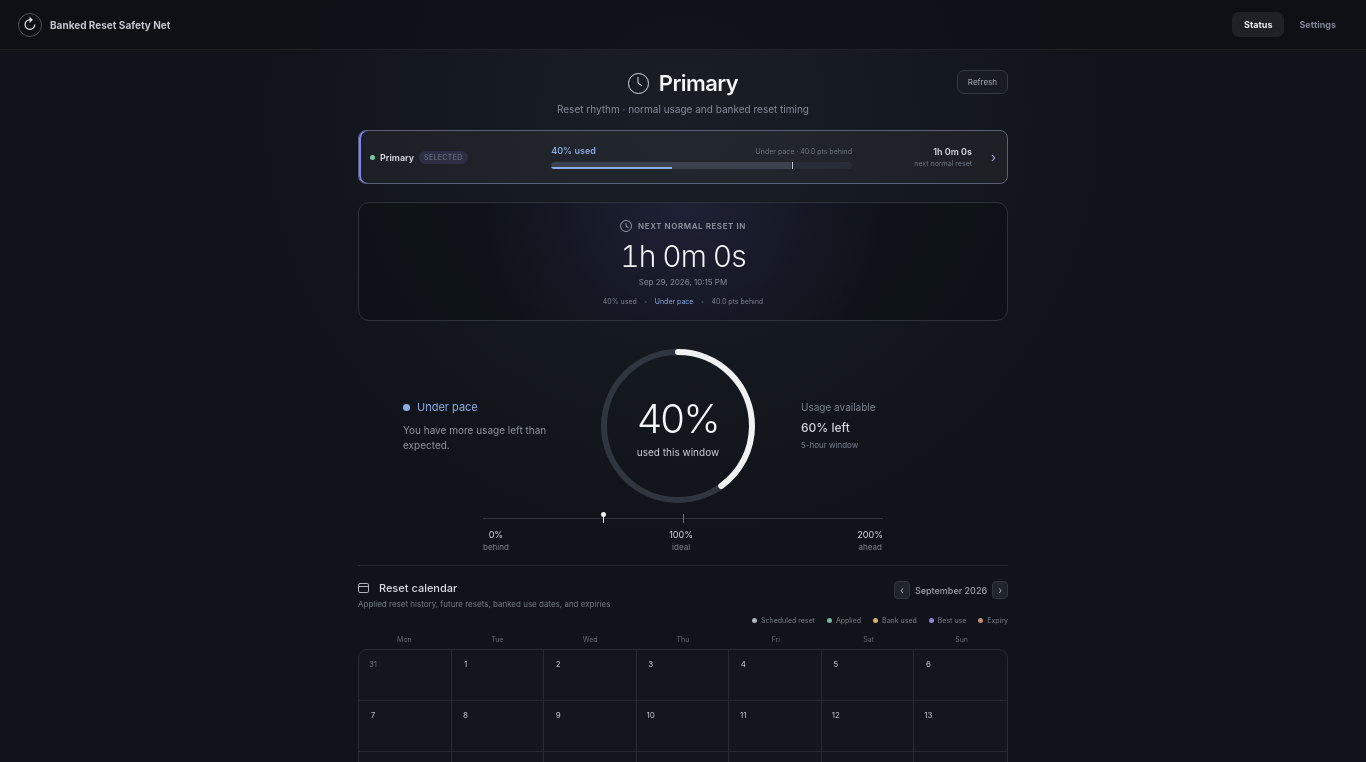
App › navigates between Status and Settings
Check: the heading "Primary" is shown, box [659,70,738,96]
Click the button "Settings" at coordinates (1318, 24), box [1288,12,1348,37]
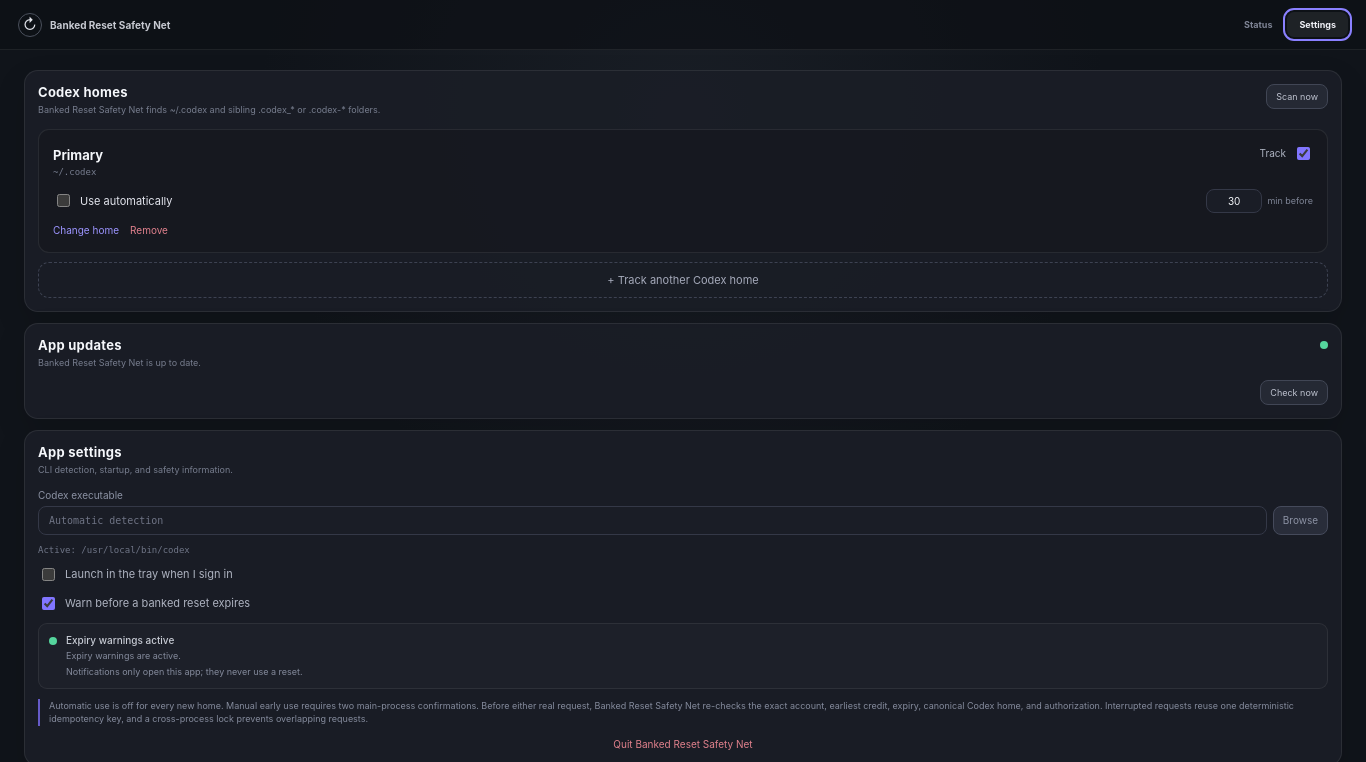
Check: the heading "Codex homes" is shown, box [38,84,128,100]
Check: the heading "App settings" is shown, box [38,444,122,460]
Click the button "Status" at coordinates (1258, 24), box [1232,12,1284,37]
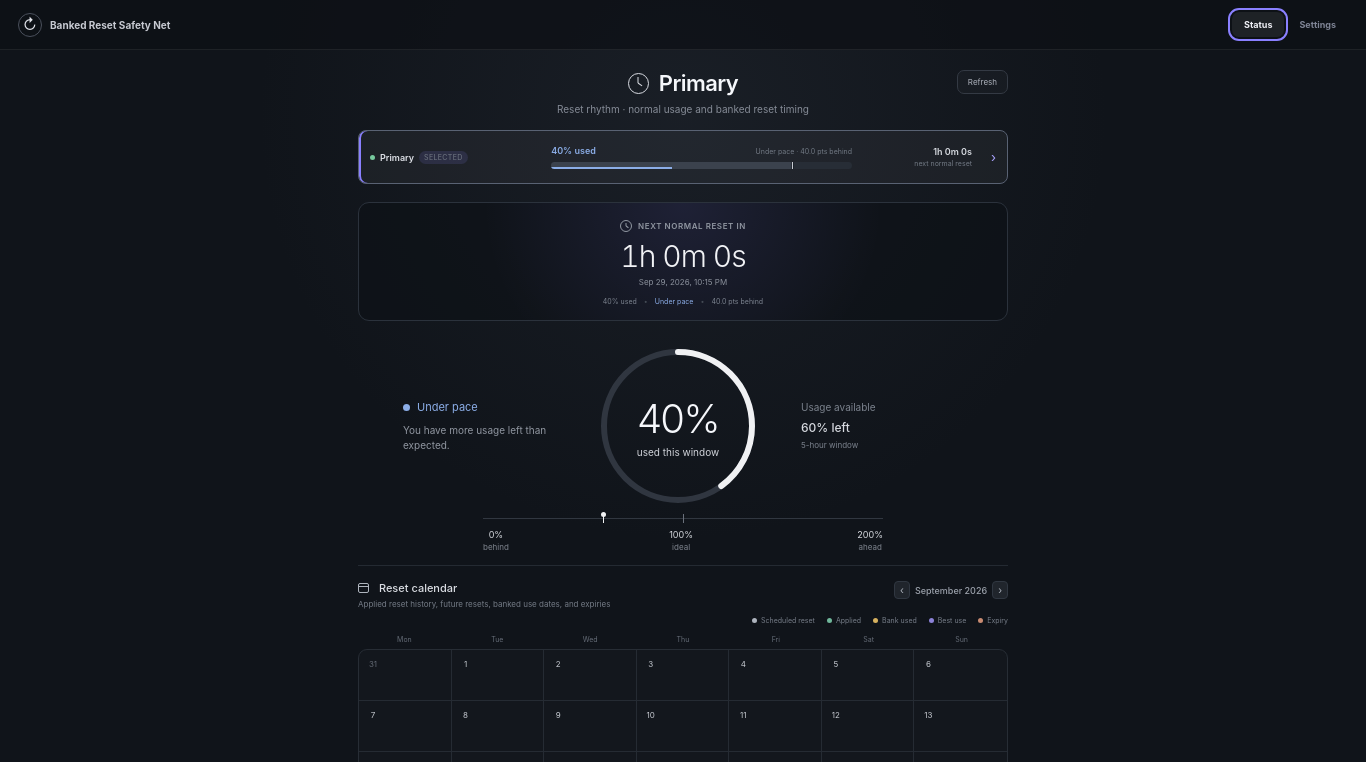
Check: the heading "Primary" is shown, box [659,70,738,96]
